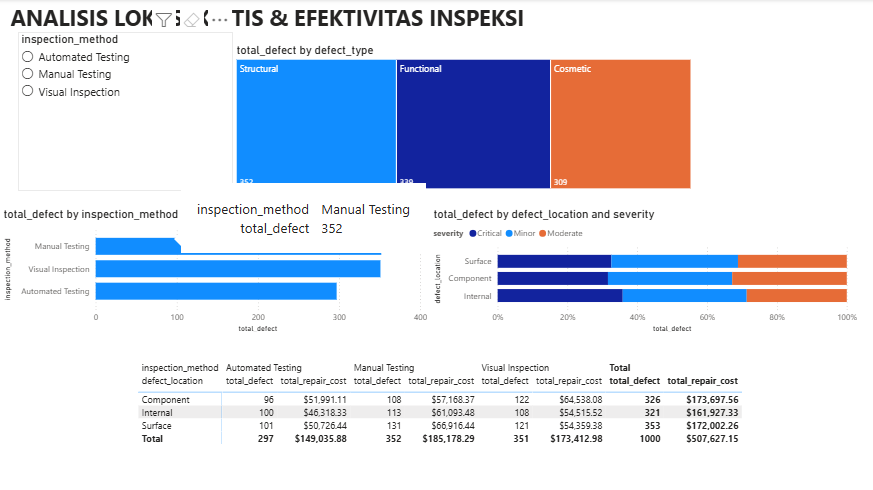

What the dashboard file says about the page in this screenshot:
{"tool":"powerbi","page":{"name":"Root Cause &  Location","canvas":[1280,720],"ordinal":1},"visuals":[{"type":"textbox","box":[10.1,0,762.6,63.8],"z":0},{"type":"hundredPercentStackedBarChart","fields":{"Category":["defect_d1.defect_location"],"Series":["defect_d1.severity"],"Y":["defect_d1.total_defect"]},"box":[629.9,304,629.9,188.1],"z":1000},{"type":"treemap","fields":{"Values":["defect_d1.total_defect"],"Group":["defect_d1.defect_type"]},"box":[341,63.8,675.3,218.4],"z":2000},{"type":"barChart","fields":{"Y":["defect_d1.total_defect"],"Category":["defect_d1.inspection_method"]},"box":[0,304,629.9,188.1],"z":3000},{"type":"pivotTable","fields":{"Values":["defect_d1.total_defect","defect_d1.total_repair_cost"],"Columns":["defect_d1.inspection_method"],"Rows":["defect_d1.defect_location"]},"box":[198.2,524.1,959.2,196.5],"z":4000},{"type":"listSlicer","fields":{"Values":["defect_d1.inspection_method"]},"box":[26.9,48.7,314.1,231.8],"z":5000}]}

Visuals, with their boxes in screenshot pixels (x1, y1, x2, y2), scaled from the page's 1280x720 canvas onto the 873x490 screenshot:
textbox: <bbox>7, 0, 527, 43</bbox>
hundredPercentStackedBarChart - defect_d1.defect_location x defect_d1.severity: <bbox>430, 207, 859, 335</bbox>
treemap - defect_d1.total_defect x defect_d1.defect_type: <bbox>233, 43, 693, 192</bbox>
barChart - defect_d1.total_defect x defect_d1.inspection_method: <bbox>0, 207, 430, 335</bbox>
pivotTable - defect_d1.total_defect x defect_d1.total_repair_cost: <bbox>135, 357, 789, 489</bbox>
listSlicer - defect_d1.inspection_method: <bbox>18, 33, 233, 191</bbox>
